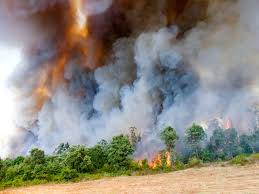fire: (38, 8, 115, 60)
